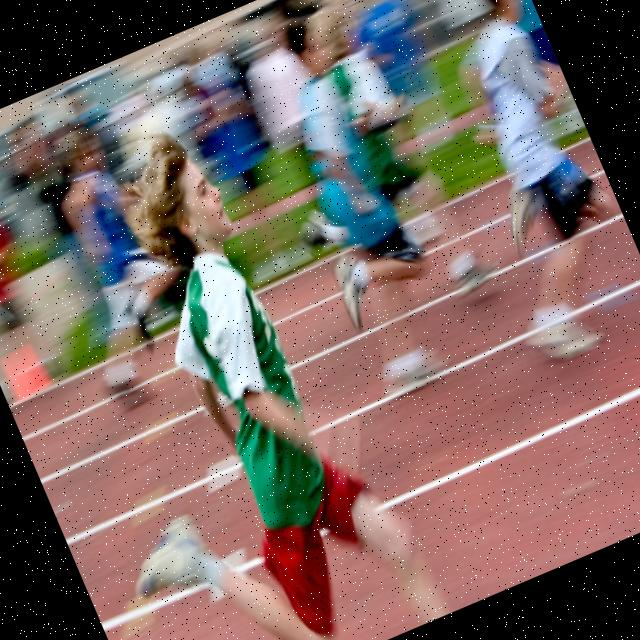Person: (0, 100, 447, 640), (380, 0, 640, 370)
